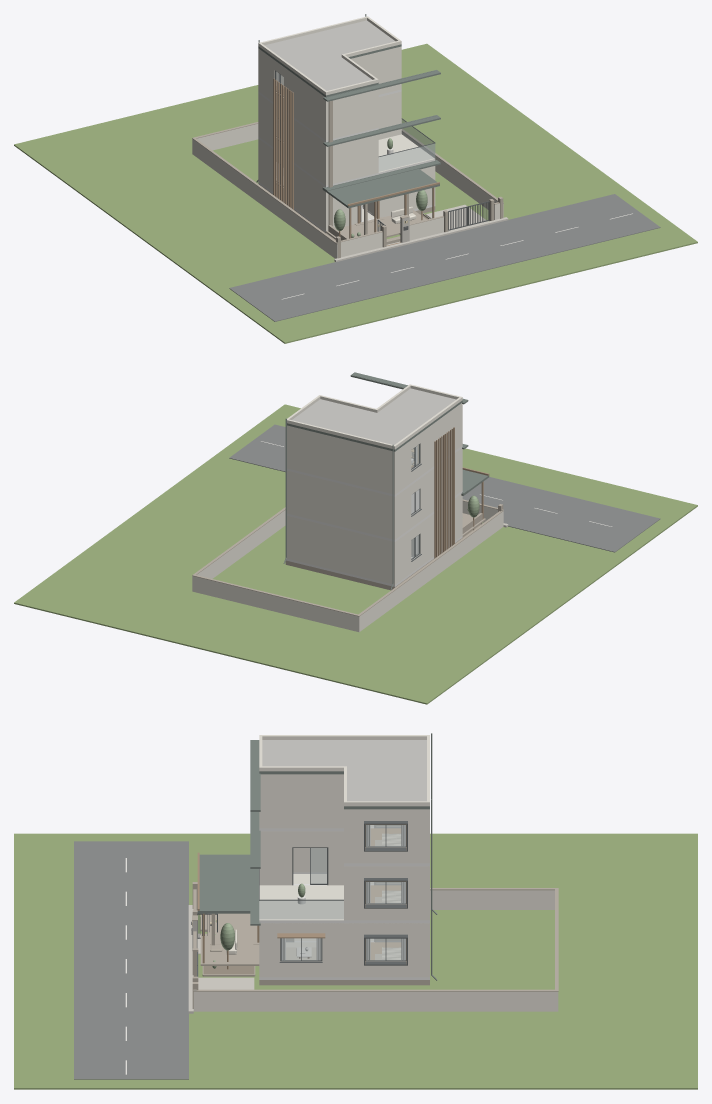
3 renders of one model, top to bottom at view 1: azimuth 30°, elevation 25°; view 2: azimuth 150°, elevation 25°; view 3: azimuth 270°, elevation 25°, orthographic. The views are drawn at different scales.
Parts seen in each view (by area): view 1: world, custom-roof-finish-2, exterior-porch-01-roof, custom-roof-edge-2, wall-fb2247f1c8f5b92f95/0, wall-5df7ff04f64980967f/0, wall-01a20732b85bcdeb93/0, wall-4ff50ee489b1d98019/0, custom-F1-terrace/floor, custom-F1-terrace-guard-0, wall-07fd62bb058e6c4634/0, wall-3fb9c87f2c93132230/0 (+6 smaller); view 2: world, custom-roof-finish-2, wall-69e3acd3813128a800/0, wall-9647e29a6d6c1fada3/0, wall-c214f0d3eb4d960963/0, custom-roof-edge-2, wall-e6115d05a9d9e680ed/0, wall-990e03f2723c40d93e/0, wall-4e790905755652a878/0, wall-fb2247f1c8f5b92f95/0, wall-5df7ff04f64980967f/0, wall-01a20732b85bcdeb93/0 (+6 smaller); view 3: world, custom-roof-finish-2, wall-dc3c56d85400c3c775/0, exterior-porch-01-roof, custom-F1-terrace/floor, custom-roof-edge-2, wall-fca196b2cad1aa70fb/0, custom-F1-terrace-guard-0, wall-fca196b2cad1aa70fb/1, wall-15d4d770f1dd7dcf47/0, wall-674822d8c4f9fb5f2d/0, wall-80ad97ad20b832072e/0 (+14 smaller).
Part boxes in pixels (x1=…): world: x1=14, y1=14, x2=697, y2=343; custom-roof-finish-2: x1=265, y1=20, x2=395, y2=90; exterior-porch-01-roof: x1=322, y1=169, x2=439, y2=208; custom-roof-edge-2: x1=258, y1=16, x2=401, y2=95; wall-fb2247f1c8f5b92f95/0: x1=291, y1=72, x2=327, y2=140; wall-5df7ff04f64980967f/0: x1=292, y1=118, x2=327, y2=185; wall-01a20732b85bcdeb93/0: x1=292, y1=164, x2=327, y2=230; wall-4ff50ee489b1d98019/0: x1=351, y1=46, x2=401, y2=94; custom-F1-terrace/floor: x1=378, y1=134, x2=434, y2=172; custom-F1-terrace-guard-0: x1=378, y1=119, x2=435, y2=171; wall-07fd62bb058e6c4634/0: x1=328, y1=139, x2=359, y2=184; wall-3fb9c87f2c93132230/0: x1=328, y1=94, x2=359, y2=139; world: x1=14, y1=372, x2=697, y2=704; custom-roof-finish-2: x1=292, y1=388, x2=455, y2=444; wall-69e3acd3813128a800/0: x1=286, y1=516, x2=342, y2=571; wall-9647e29a6d6c1fada3/0: x1=287, y1=470, x2=342, y2=526; wall-c214f0d3eb4d960963/0: x1=287, y1=425, x2=342, y2=481; custom-roof-edge-2: x1=287, y1=384, x2=462, y2=449; wall-e6115d05a9d9e680ed/0: x1=361, y1=443, x2=392, y2=493; wall-990e03f2723c40d93e/0: x1=361, y1=488, x2=392, y2=539; wall-4e790905755652a878/0: x1=361, y1=534, x2=392, y2=583; wall-fb2247f1c8f5b92f95/0: x1=428, y1=403, x2=462, y2=470; wall-5df7ff04f64980967f/0: x1=428, y1=448, x2=462, y2=515; wall-01a20732b85bcdeb93/0: x1=428, y1=494, x2=462, y2=560; world: x1=14, y1=733, x2=697, y2=1089; custom-roof-finish-2: x1=262, y1=740, x2=426, y2=801; wall-dc3c56d85400c3c775/0: x1=262, y1=774, x2=343, y2=828; exterior-porch-01-roof: x1=197, y1=854, x2=250, y2=913; custom-F1-terrace/floor: x1=259, y1=885, x2=343, y2=920; custom-roof-edge-2: x1=259, y1=735, x2=429, y2=806; wall-fca196b2cad1aa70fb/0: x1=262, y1=847, x2=342, y2=885; custom-F1-terrace-guard-0: x1=259, y1=900, x2=343, y2=919; wall-fca196b2cad1aa70fb/1: x1=262, y1=831, x2=342, y2=847; wall-15d4d770f1dd7dcf47/0: x1=262, y1=961, x2=346, y2=977; wall-674822d8c4f9fb5f2d/0: x1=344, y1=904, x2=426, y2=920; wall-80ad97ad20b832072e/0: x1=347, y1=961, x2=426, y2=977.
Size of the model in its own units: 30.19 by 10.38 by 34.29.
